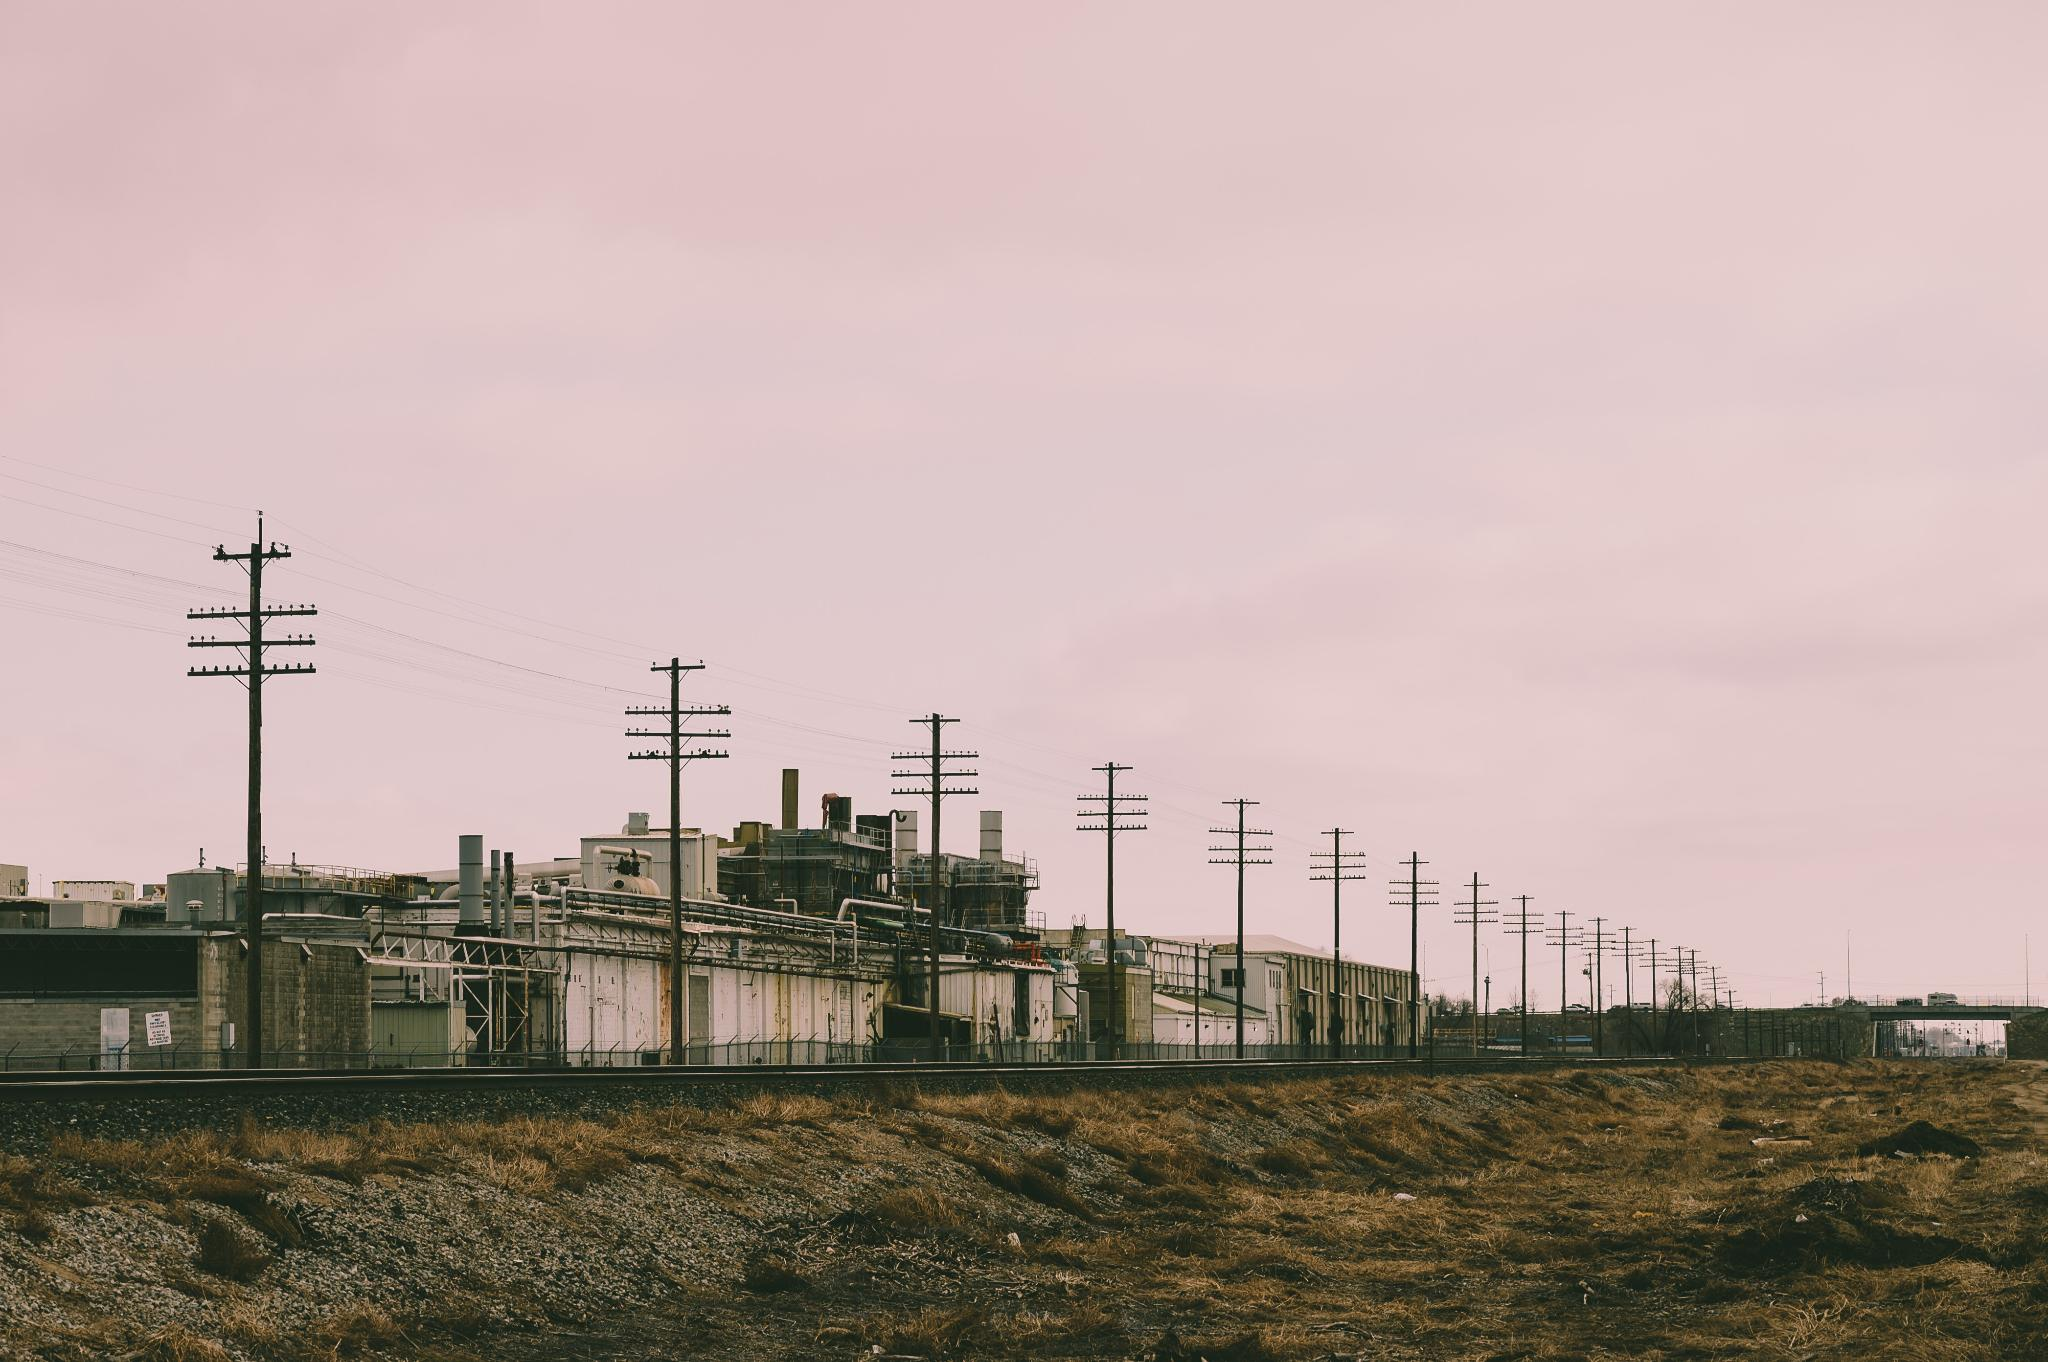cable tower: (164, 485, 343, 1085), (593, 613, 757, 1088), (858, 661, 992, 1093), (1051, 734, 1162, 1066), (1190, 778, 1288, 1066), (1294, 795, 1383, 1063), (1390, 839, 1446, 1067), (1446, 856, 1506, 1063), (1504, 871, 1550, 1069), (1542, 891, 1592, 1060), (1603, 920, 1656, 1055), (1655, 932, 1705, 1056)
